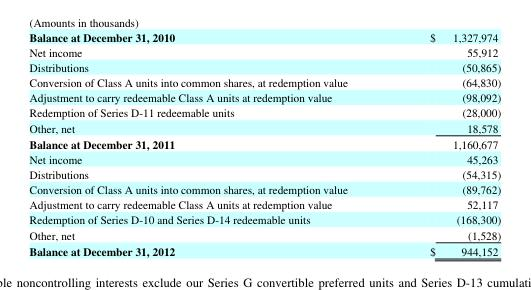table: (28, 28, 500, 258)
table column: (28, 28, 388, 258), (388, 28, 500, 258)
table row: (28, 28, 500, 44), (28, 119, 500, 135), (28, 135, 500, 151), (28, 226, 500, 242), (28, 242, 500, 258), (28, 44, 500, 59), (28, 59, 500, 74), (28, 74, 500, 89), (28, 89, 500, 104), (28, 104, 500, 119), (28, 151, 500, 166), (28, 166, 500, 181), (28, 181, 500, 196), (28, 196, 500, 211), (28, 211, 500, 226)
